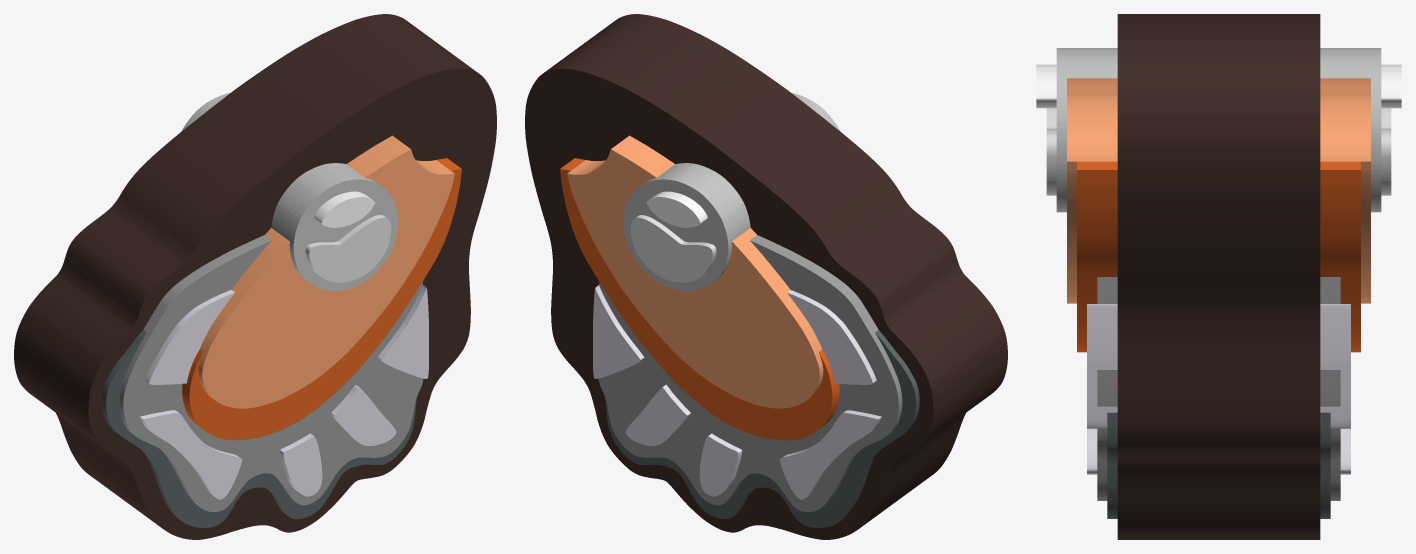
3 views of the same model, side by side, from view 1: azimuth 30°, elevation 25°; view 2: azimuth 150°, elevation 25°; view 3: azimuth 270°, elevation 25° (orthographic). The views are drawn at different scales.
Visible parts, largest first — view 1: U+1F9AA_layer00_obj00, U+1F9AA_layer05_obj00, U+1F9AA_layer02_obj00, U+1F9AA_layer04_obj00, U+1F9AA_layer06_obj00, U+1F9AA_layer01_obj00, U+1F9AA_layer07_obj00, U+1F9AA_layer03_obj02, U+1F9AA_layer03_obj00, U+1F9AA_layer03_obj01, U+1F9AA_layer03_obj03, U+1F9AA_layer03_obj04 (+1 smaller); view 2: U+1F9AA_layer00_obj00, U+1F9AA_layer05_obj00, U+1F9AA_layer02_obj00, U+1F9AA_layer04_obj00, U+1F9AA_layer06_obj00, U+1F9AA_layer01_obj00, U+1F9AA_layer07_obj00, U+1F9AA_layer03_obj02, U+1F9AA_layer03_obj00, U+1F9AA_layer03_obj01, U+1F9AA_layer03_obj03, U+1F9AA_layer03_obj04 (+1 smaller); view 3: U+1F9AA_layer00_obj00, U+1F9AA_layer04_obj00, U+1F9AA_layer05_obj00, U+1F9AA_layer06_obj00, U+1F9AA_layer03_obj01, U+1F9AA_layer02_obj00, U+1F9AA_layer01_obj00, U+1F9AA_layer07_obj00, U+1F9AA_layer08_obj00, U+1F9AA_layer03_obj03.
Boxes of the visible parts, box(x1,y1,x2,y2) form: U+1F9AA_layer00_obj00: box(14, 14, 496, 539); U+1F9AA_layer05_obj00: box(198, 135, 454, 408); U+1F9AA_layer02_obj00: box(119, 235, 423, 511); U+1F9AA_layer04_obj00: box(182, 158, 461, 440); U+1F9AA_layer06_obj00: box(181, 93, 398, 290); U+1F9AA_layer01_obj00: box(102, 330, 416, 527); U+1F9AA_layer07_obj00: box(305, 215, 391, 282); U+1F9AA_layer03_obj02: box(140, 410, 242, 499); U+1F9AA_layer03_obj00: box(145, 290, 234, 384); U+1F9AA_layer03_obj01: box(377, 285, 428, 378); U+1F9AA_layer03_obj03: box(331, 384, 396, 445); U+1F9AA_layer03_obj04: box(279, 433, 322, 496); U+1F9AA_layer00_obj00: box(525, 14, 1007, 539); U+1F9AA_layer05_obj00: box(567, 135, 823, 408); U+1F9AA_layer02_obj00: box(598, 235, 902, 511); U+1F9AA_layer04_obj00: box(560, 158, 839, 440); U+1F9AA_layer06_obj00: box(623, 93, 840, 290); U+1F9AA_layer01_obj00: box(605, 330, 919, 527); U+1F9AA_layer07_obj00: box(630, 215, 716, 282); U+1F9AA_layer03_obj02: box(779, 410, 881, 499); U+1F9AA_layer03_obj00: box(787, 290, 876, 384); U+1F9AA_layer03_obj01: box(593, 285, 644, 378); U+1F9AA_layer03_obj03: box(625, 384, 690, 445); U+1F9AA_layer03_obj04: box(699, 433, 742, 496); U+1F9AA_layer00_obj00: box(1117, 14, 1320, 539); U+1F9AA_layer04_obj00: box(1077, 161, 1360, 352); U+1F9AA_layer05_obj00: box(1067, 78, 1370, 303); U+1F9AA_layer06_obj00: box(1056, 48, 1381, 212); U+1F9AA_layer03_obj01: box(1087, 304, 1350, 428); U+1F9AA_layer02_obj00: box(1097, 277, 1340, 500); U+1F9AA_layer01_obj00: box(1107, 412, 1330, 518); U+1F9AA_layer07_obj00: box(1046, 108, 1391, 195); U+1F9AA_layer08_obj00: box(1036, 64, 1401, 108); U+1F9AA_layer03_obj03: box(1087, 428, 1350, 474).
Size of the model in its own units: 0.3165 by 0.3146 by 0.18.
